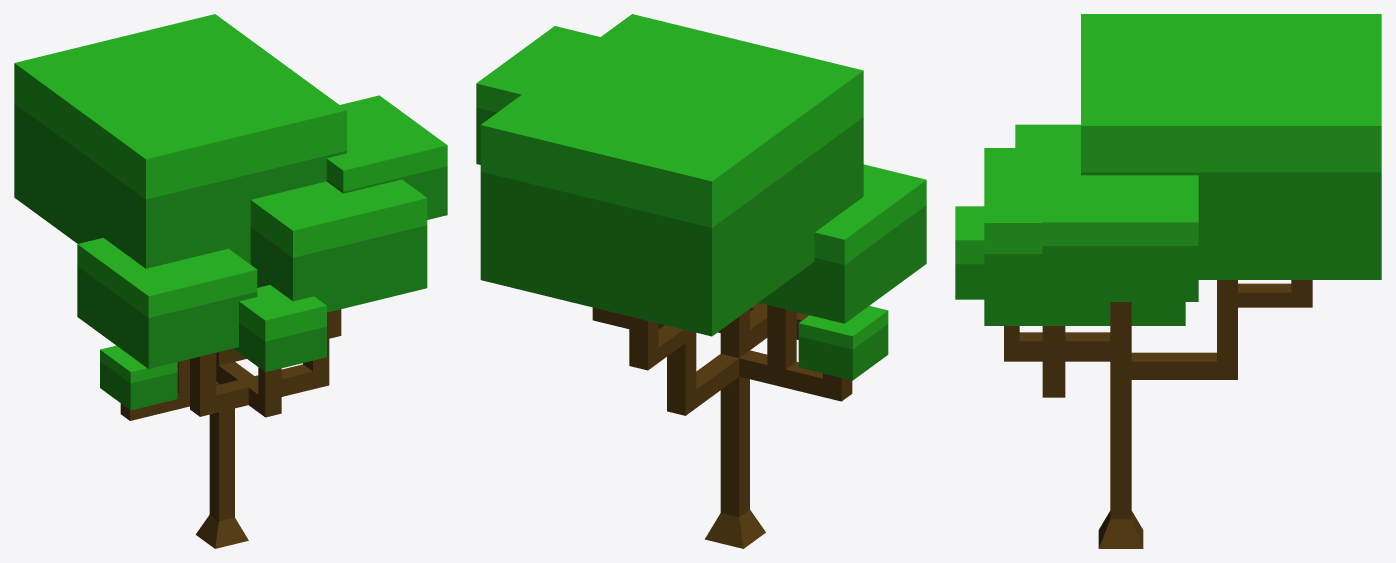
The model's file is forest6.fbx.
The picture shows the model from 3 angles, left to right: view 1: azimuth 30°, elevation 25°; view 2: azimuth 150°, elevation 25°; view 3: azimuth 270°, elevation 25°; orthographic projection. The views are drawn at different scales.
Visible parts, largest first — view 1: forest6; view 2: forest6; view 3: forest6.
Boxes of the visible parts, bbox=[...] form: forest6: bbox=[14, 14, 447, 548]; forest6: bbox=[476, 14, 926, 548]; forest6: bbox=[955, 14, 1381, 548].
Size of the model in its own units: 1719 by 2188 by 1788.
Materials: 1 (1 with a texture image).
